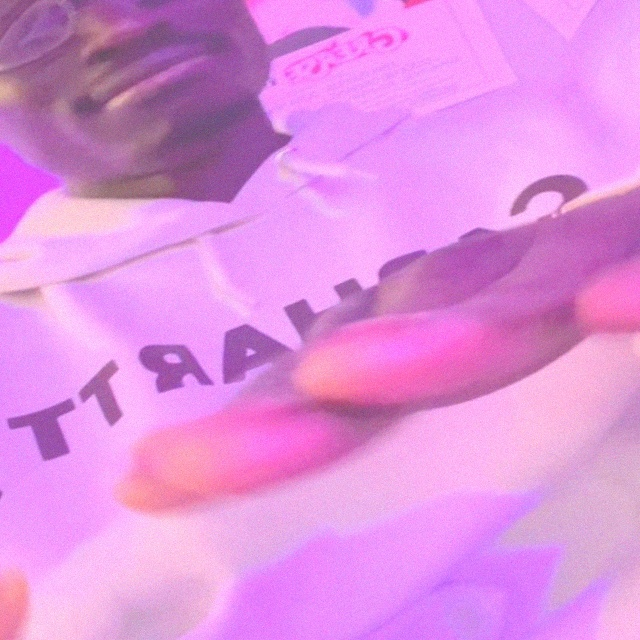Paper: (0, 466, 173, 640)
